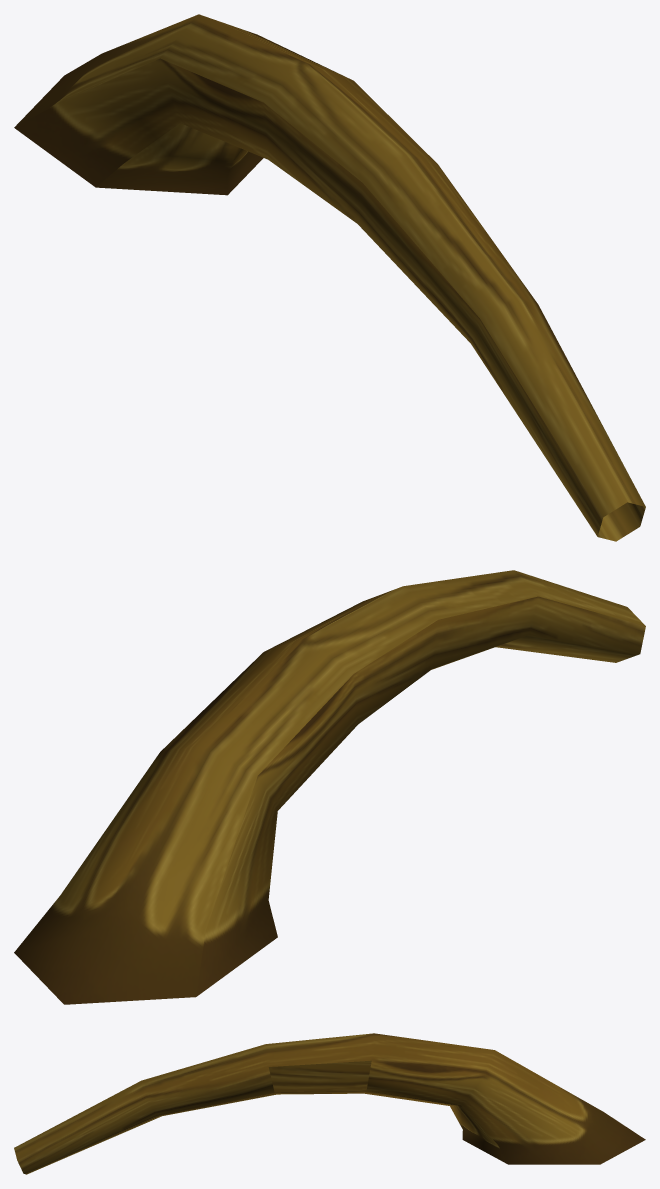
Rendered from glass_006_3.fbx.
3 views of the same model, one above another, from view 1: azimuth 30°, elevation 25°; view 2: azimuth 150°, elevation 25°; view 3: azimuth 270°, elevation 25° (orthographic). The views are drawn at different scales.
Visible parts, largest first — view 1: nurbsToPoly4; view 2: nurbsToPoly4; view 3: nurbsToPoly4.
Boxes of the visible parts, x1,y1,x2,y2 form: nurbsToPoly4: (14,14,645,541); nurbsToPoly4: (14,570,645,1004); nurbsToPoly4: (14,1033,645,1174).
Size of the model in its own units: 23.93 by 128 by 31.61.
